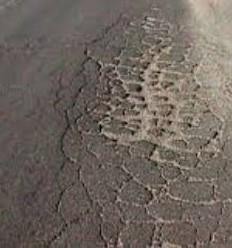alligator-crack: (42, 7, 232, 247)
